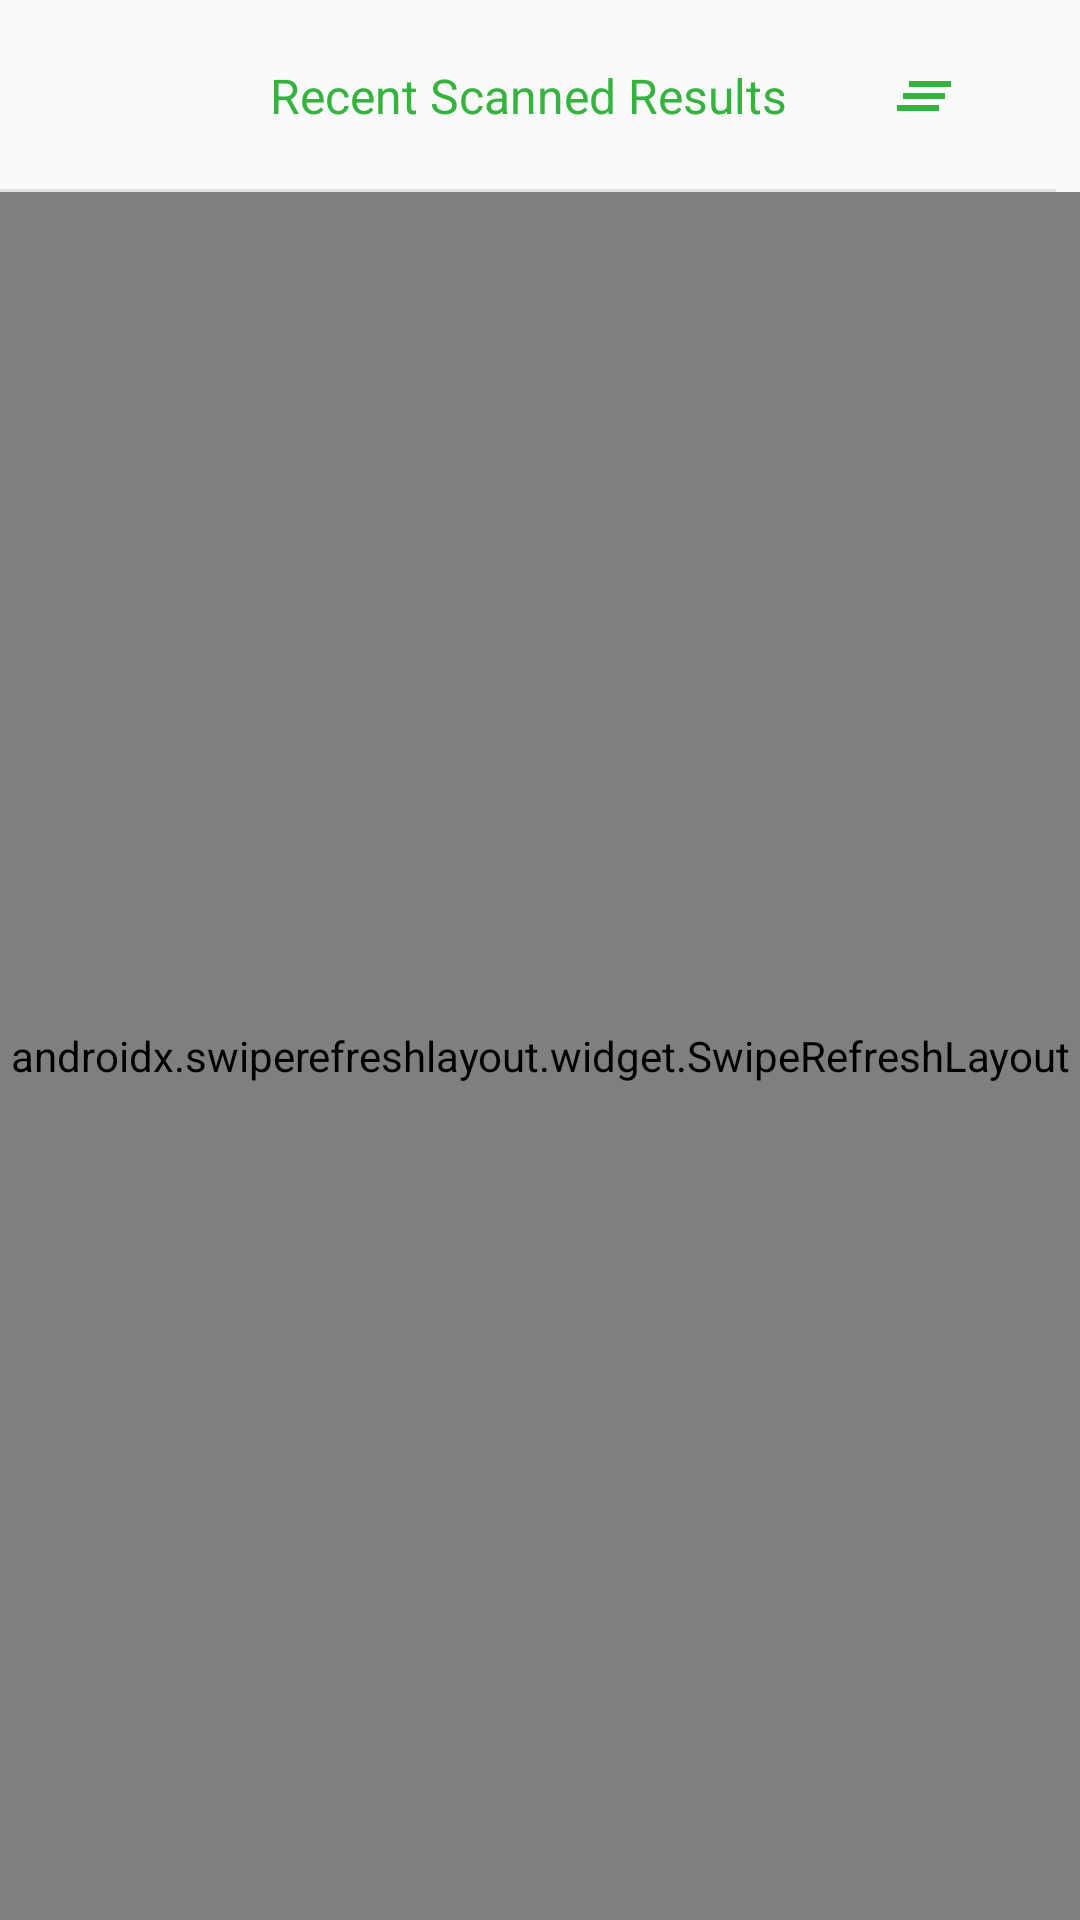

Screen size 1080×1920. Icon name, then its box in pixels as (x1, y1, x2, y2):
clear all: (897, 81, 951, 111)
